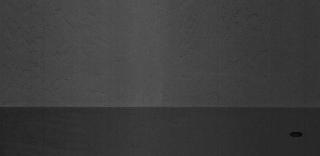punching hole: (287, 132, 305, 138)
welding line: (2, 101, 320, 115)
